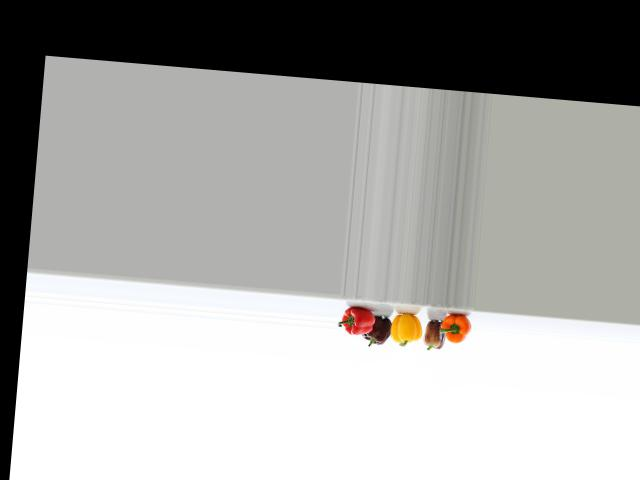bell_pepper: (437, 309, 473, 353)
